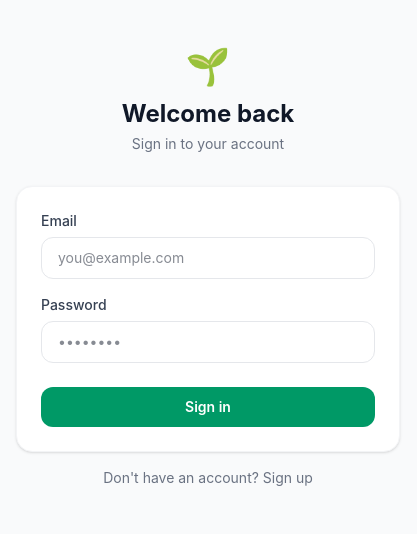
Test: auth flow › shows an error for invalid login credentials
The width and height of the screenshot is (417, 534).
Type "nobody@example.com" into the field with test id "auth-login-email" at (208, 258), box [41, 237, 375, 279]
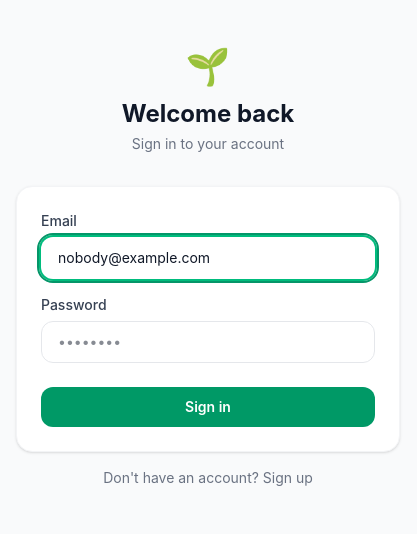
Type "wrongpassword" into the password field with test id "auth-login-password" at (208, 342), box [41, 321, 375, 363]
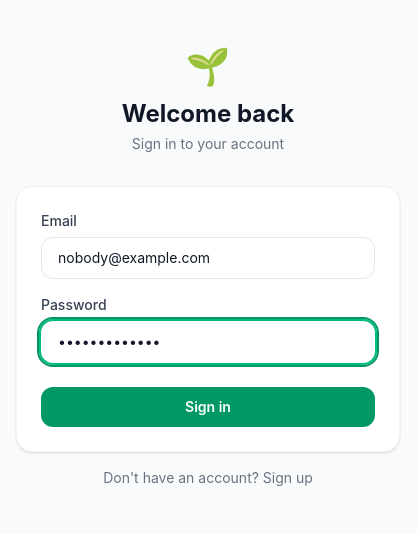
Click the button with test id "auth-login-submit" at (208, 407), box [41, 387, 375, 427]
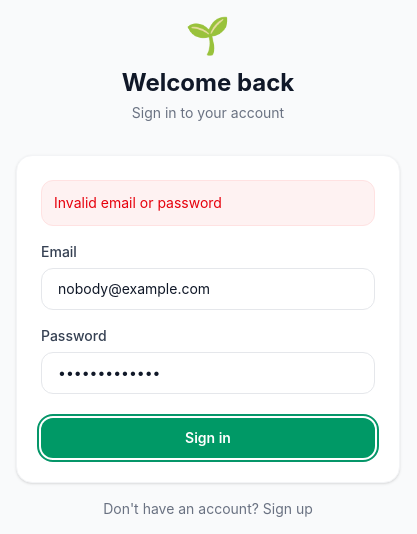
Now the text "Invalid email or password" is shown, box [41, 180, 375, 226]
